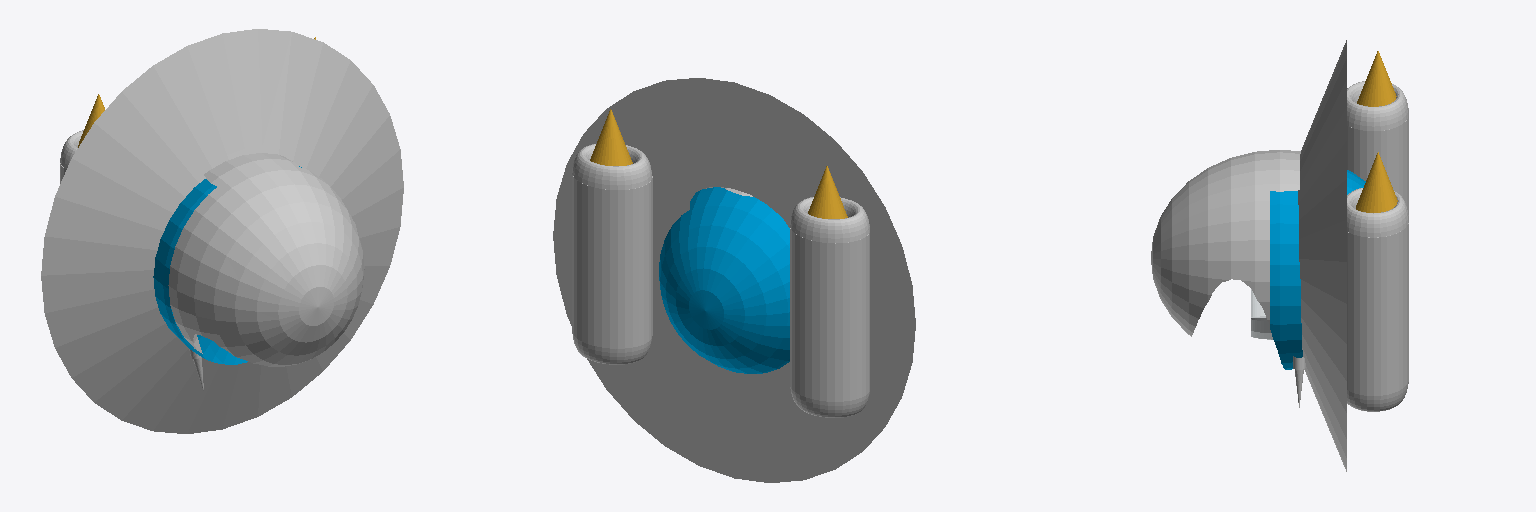
Rendered from spaceship.obj.
3 views of the same model, side by side, from view 1: azimuth 30°, elevation 25°; view 2: azimuth 150°, elevation 25°; view 3: azimuth 270°, elevation 25° (orthographic).
Parts seen in each view (by area): view 1: obj_0; view 2: obj_0; view 3: obj_0.
Boxes of the visible parts, box(x1,y1,x2,y2) form: obj_0: box(41, 29, 403, 433); obj_0: box(553, 78, 915, 482); obj_0: box(1151, 40, 1408, 471).
Bounding box in the file's own units: 20.08 × 20.94 × 12.39.